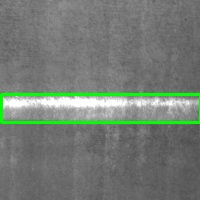scratches: (1, 94, 200, 122)
